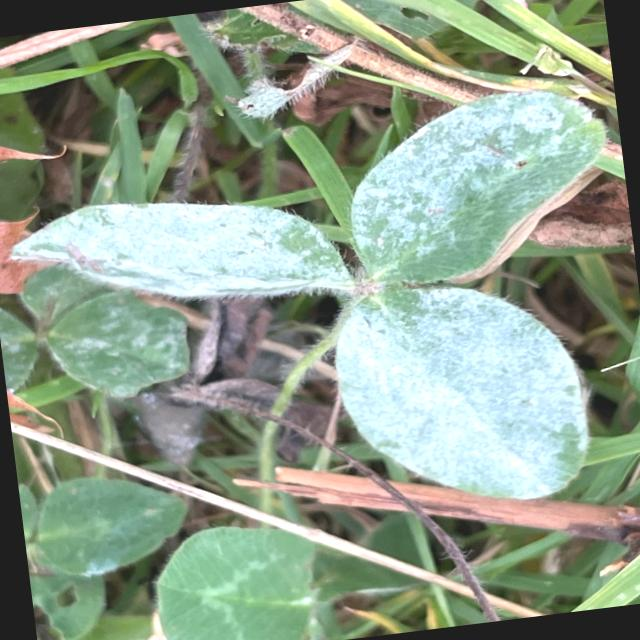powdery_mildew: (336, 287, 587, 498), (351, 91, 604, 283), (13, 203, 353, 296)
